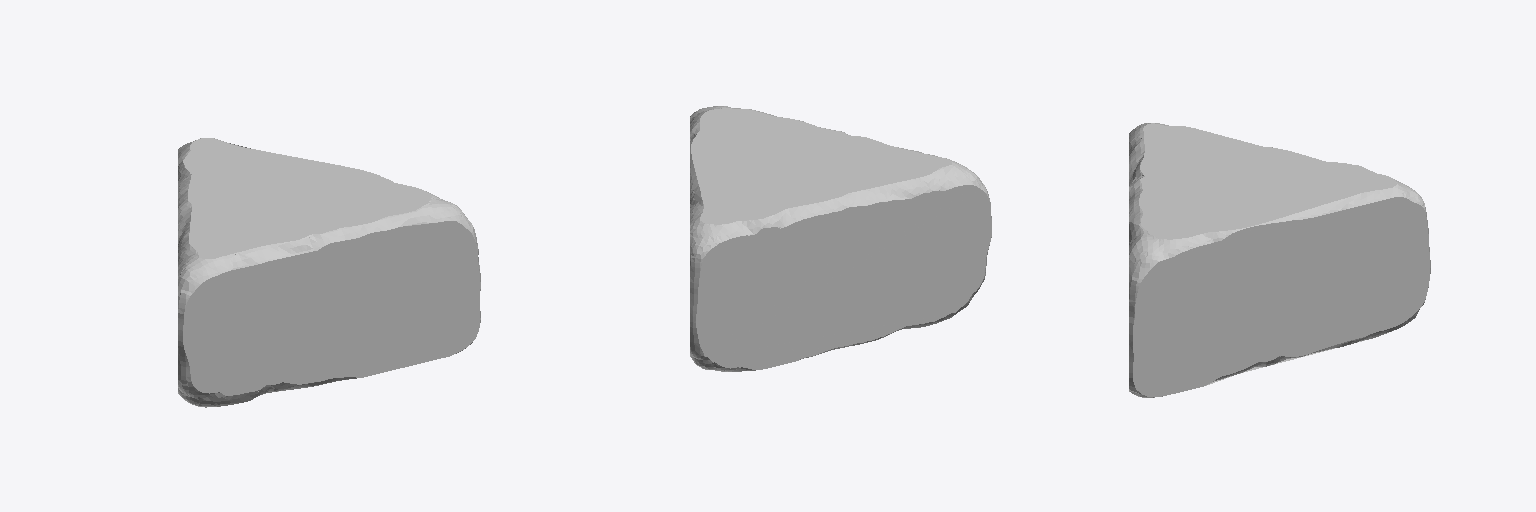
The model's file is simple_triangle_item.obj.
3 views of the same model, side by side, from view 1: azimuth 30°, elevation 25°; view 2: azimuth 150°, elevation 25°; view 3: azimuth 270°, elevation 25° (orthographic).
Parts seen in each view (by area): view 1: simple_triangle_grid_item; view 2: simple_triangle_grid_item; view 3: simple_triangle_grid_item.
Boxes of the visible parts, x1=… form: simple_triangle_grid_item: x1=178, y1=138, x2=480, y2=407; simple_triangle_grid_item: x1=690, y1=106, x2=991, y2=371; simple_triangle_grid_item: x1=1129, y1=123, x2=1430, y2=397.
Bounding box in the file's own units: 1.71 × 0.8 × 1.47.